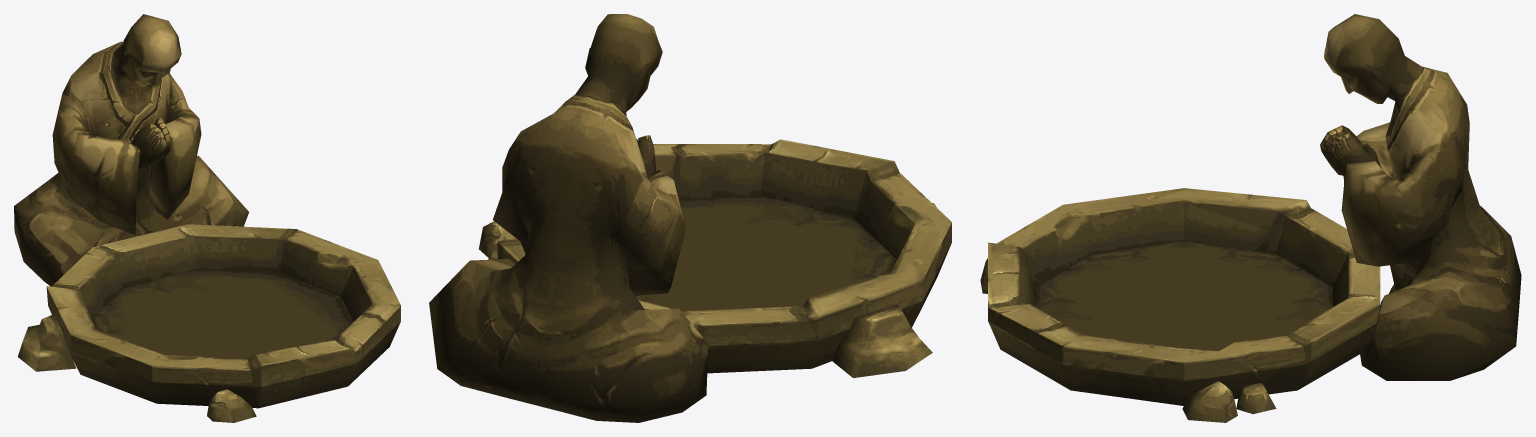
Rendered from esthshrine_pool_01_7472da53.glb.
3 views of the same model, side by side, from view 1: azimuth 30°, elevation 25°; view 2: azimuth 150°, elevation 25°; view 3: azimuth 270°, elevation 25° (orthographic). The views are drawn at different scales.
Size of the model in its own units: 2.89 by 2.11 by 3.35.
Materials: 2 (2 with a texture image).
